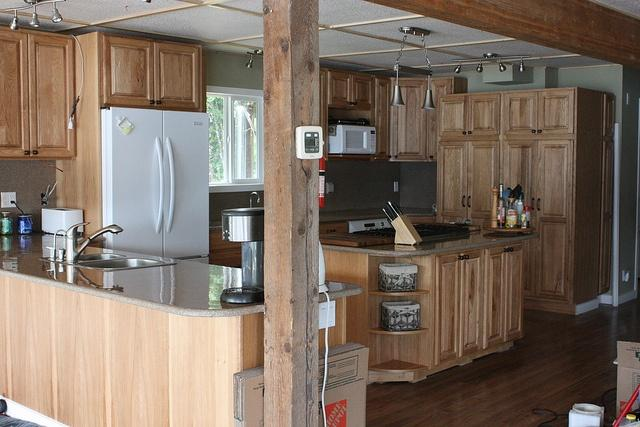Lemari: (437, 86, 574, 231), (434, 240, 523, 367), (0, 23, 74, 161), (97, 31, 205, 111)
